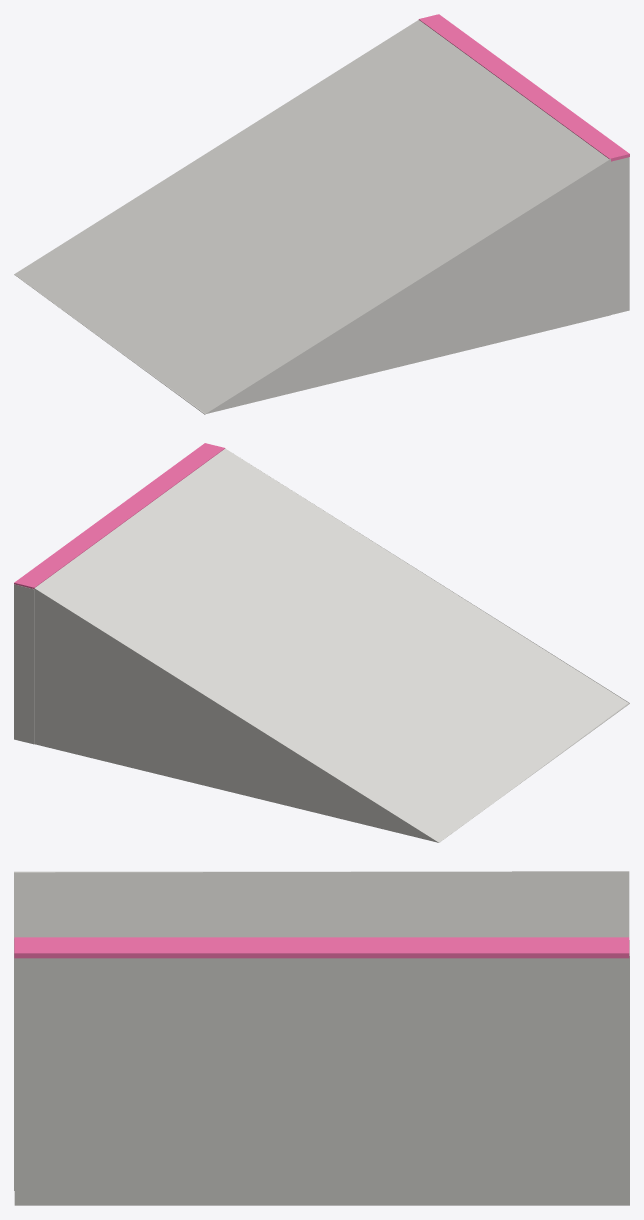
The model's file is Kicker.fbx.
3 renders of one model, top to bottom at view 1: azimuth 30°, elevation 25°; view 2: azimuth 150°, elevation 25°; view 3: azimuth 270°, elevation 25°, orthographic. The views are drawn at different scales.
Visible parts, largest first — view 1: Big Kicker; view 2: Big Kicker; view 3: Big Kicker.
Boxes of the visible parts, x1,y1,x2,y2 form: Big Kicker: [14, 14, 629, 414]; Big Kicker: [14, 443, 629, 842]; Big Kicker: [14, 871, 629, 1205].
Size of the model in its own units: 5181 by 1830 by 4037.
